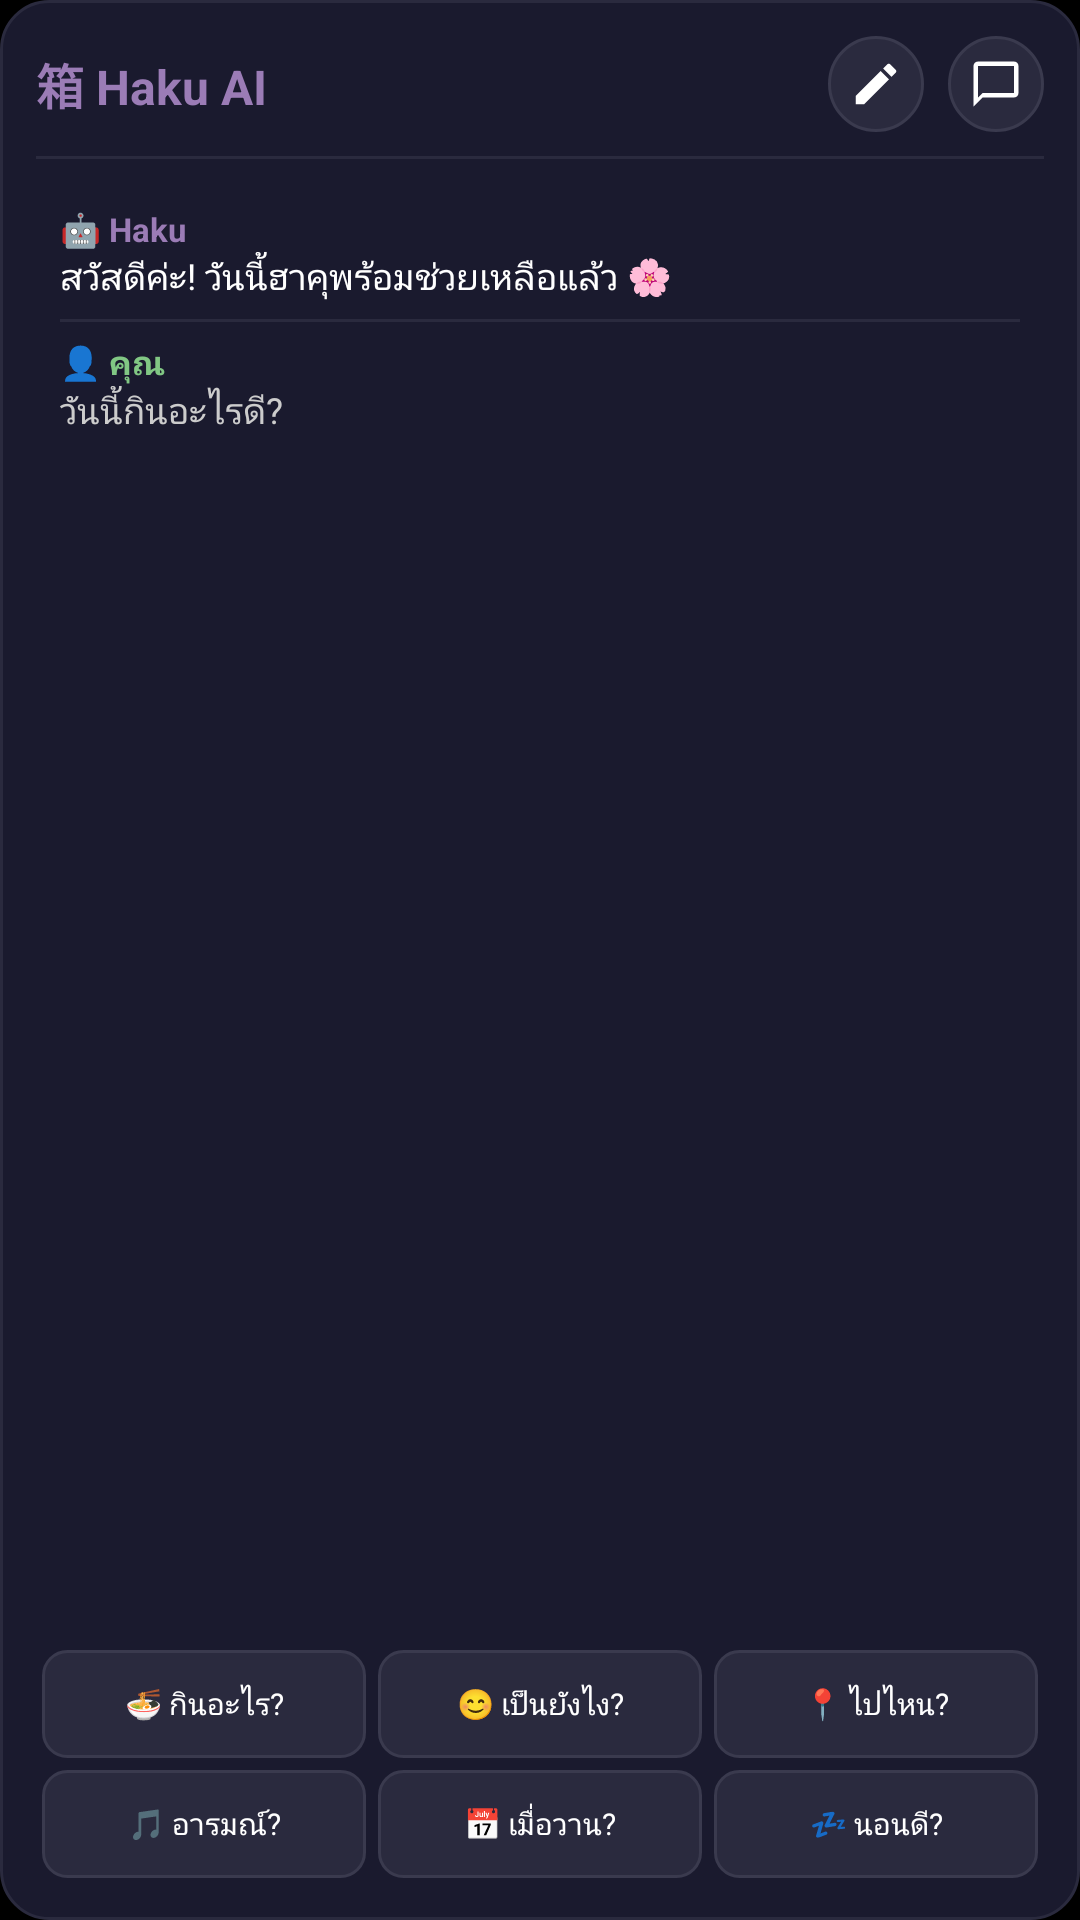

Where icons sit on this 1080*1920 app screen, as (x1, y1, x2, y2):
เขียนบันทึก: (828, 36, 924, 132)
